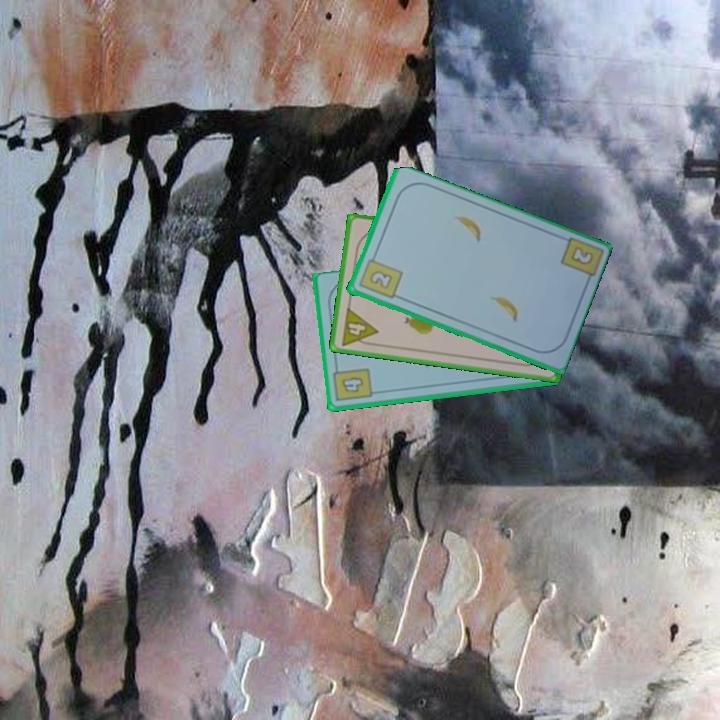2b: (355, 250, 405, 302), (567, 243, 596, 268)
4b: (330, 362, 375, 404)
4p: (337, 304, 381, 349)
